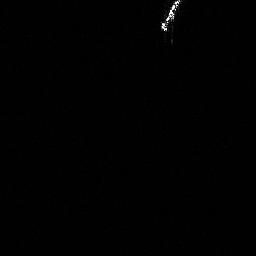ship: (157, 1, 184, 34)
